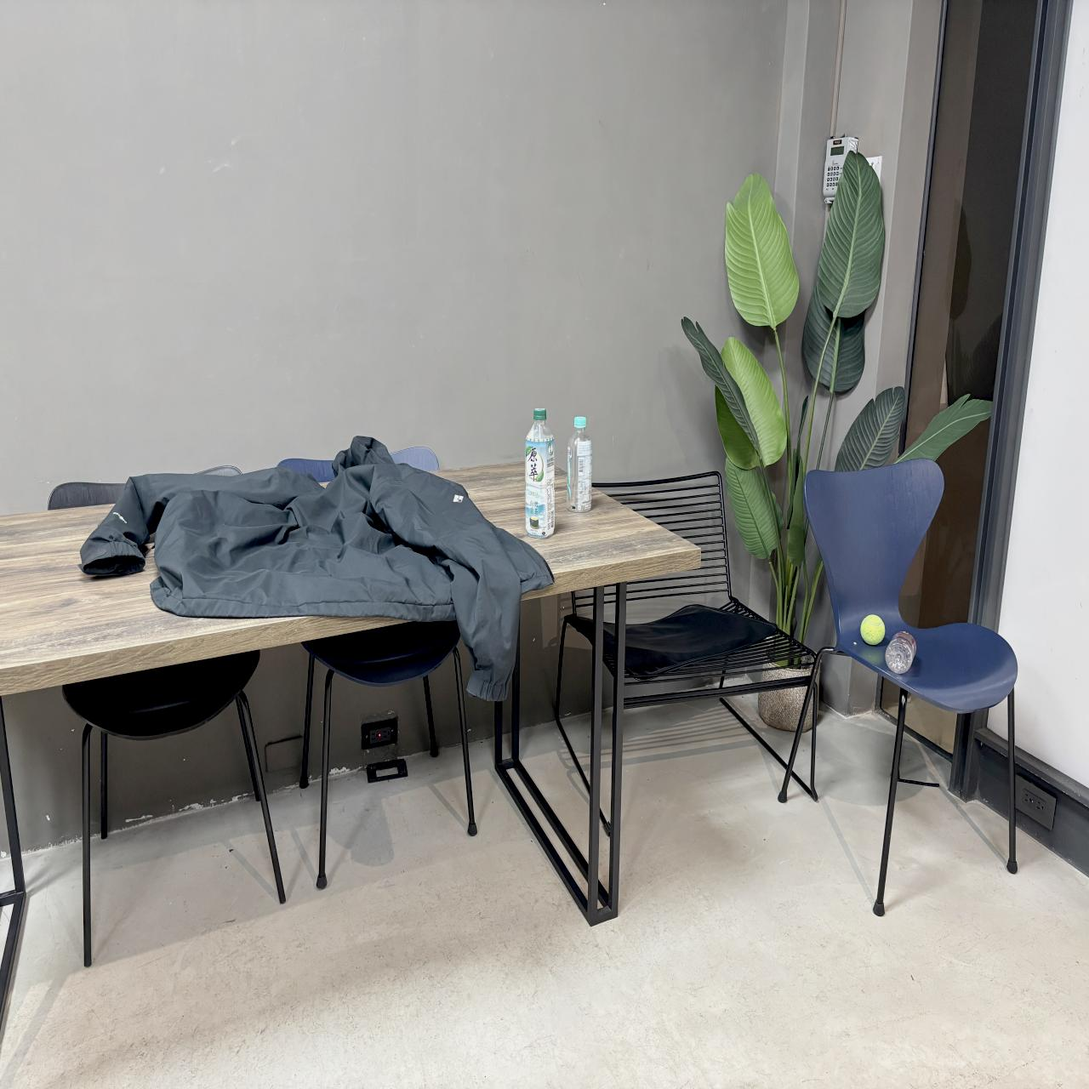plastic-bottle: (525, 409, 554, 537), (567, 416, 592, 512)
tennisball: (860, 615, 885, 645)
